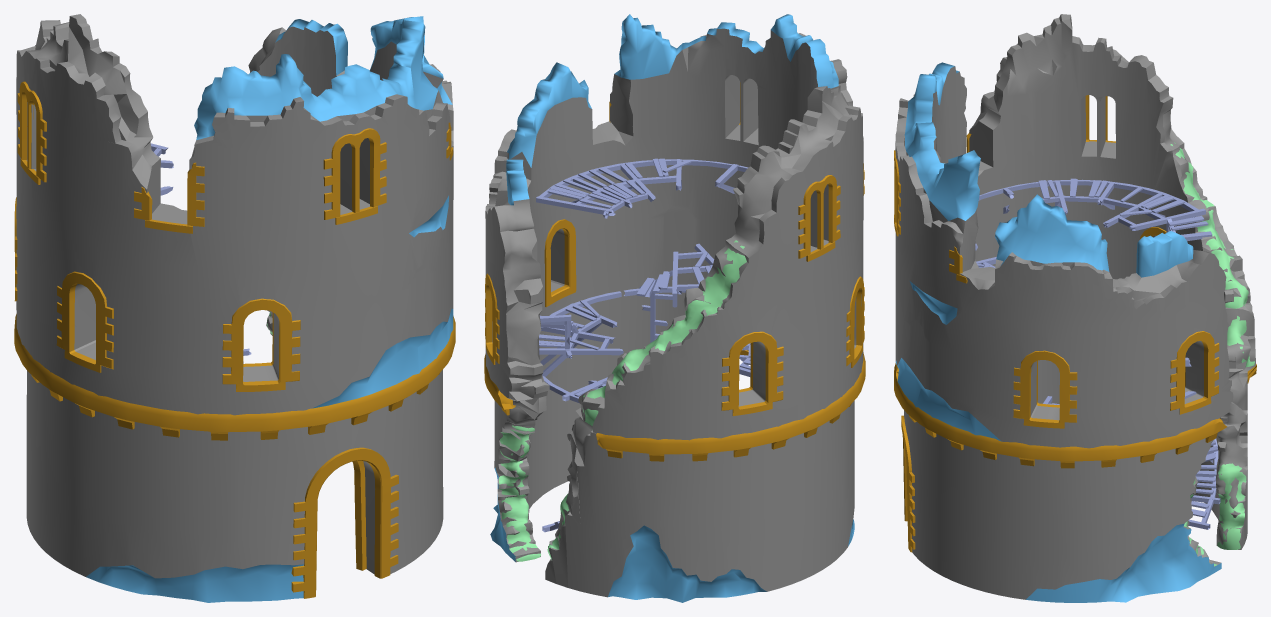
File: SM_Castle_Tower_B.fbx
The picture shows the model from 3 angles, left to right: view 1: azimuth 30°, elevation 25°; view 2: azimuth 150°, elevation 25°; view 3: azimuth 270°, elevation 25°; orthographic projection. The views are drawn at different scales.
Visible parts, largest first — view 1: SM_Castle_Tower_B_LOD0; view 2: SM_Castle_Tower_B_LOD0; view 3: SM_Castle_Tower_B_LOD0.
Boxes of the visible parts, x1,y1,x2,y2 form: SM_Castle_Tower_B_LOD0: (14, 14, 455, 602); SM_Castle_Tower_B_LOD0: (484, 14, 865, 602); SM_Castle_Tower_B_LOD0: (894, 14, 1256, 602).
Size of what is drawn, in the model's own units: 907 by 1236 by 903.
